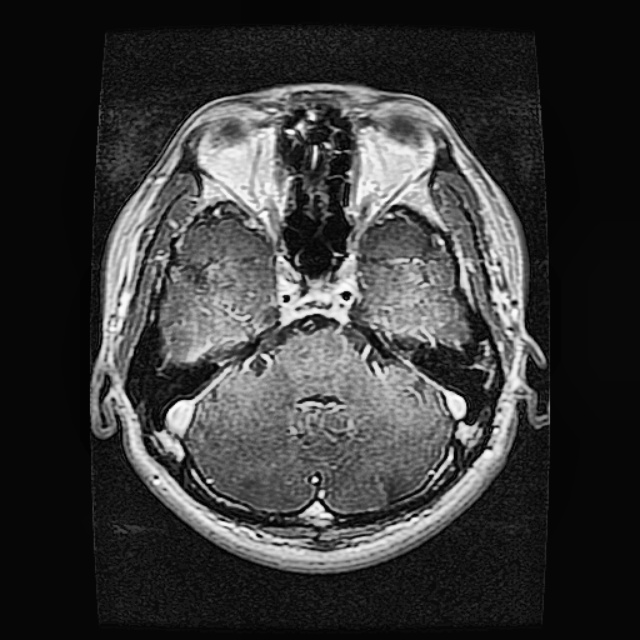Glioma: (243, 349, 269, 377)
